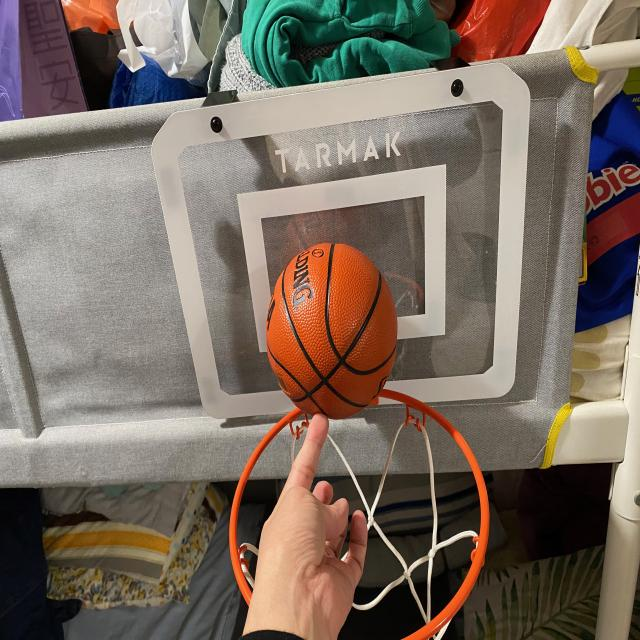Ball: (259, 232, 406, 432)
